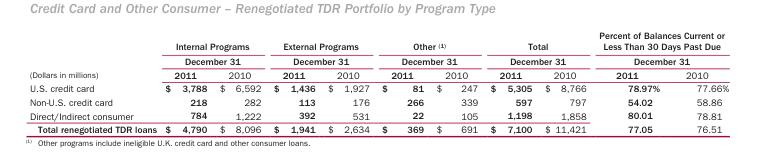table: (28, 29, 728, 134)
table column: (28, 29, 160, 134), (591, 29, 671, 134), (671, 29, 728, 134), (320, 29, 375, 134), (212, 29, 266, 134), (266, 29, 320, 134), (375, 29, 429, 134), (429, 29, 483, 134), (483, 29, 537, 134), (537, 29, 591, 134), (160, 29, 212, 134)
table column header: (28, 29, 728, 81)
table row: (28, 29, 728, 67), (28, 67, 728, 81), (28, 81, 728, 95), (28, 108, 728, 122), (28, 95, 728, 108), (28, 122, 728, 134)
table spanning cell: (28, 29, 160, 81), (591, 29, 728, 67), (266, 29, 375, 67), (375, 29, 483, 67), (483, 29, 591, 67), (160, 29, 266, 67)
